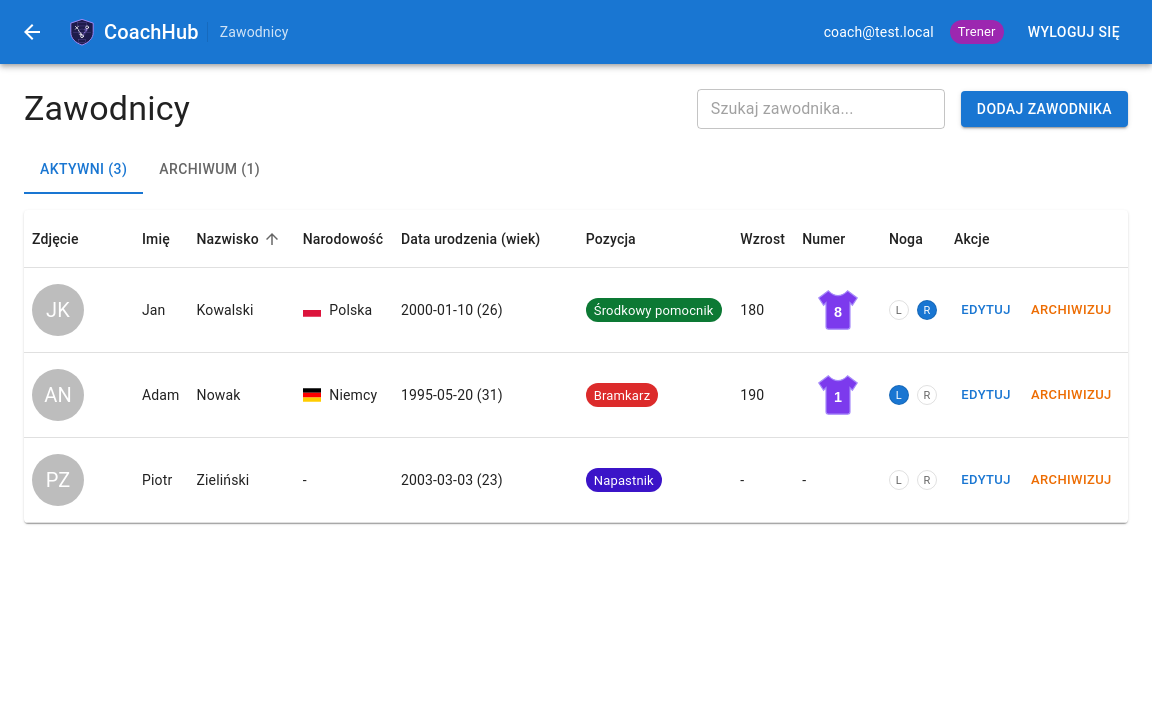
Test: players list › archive tab › lists only archived players with the date they were archived
The width and height of the screenshot is (1164, 720).
Expected: the text "Kowalski" is shown, x1=188 y1=268 x2=295 y2=353
Click the tab "Archiwum (1)".
click(210, 170)  # box x1=143 y1=146 x2=276 y2=194
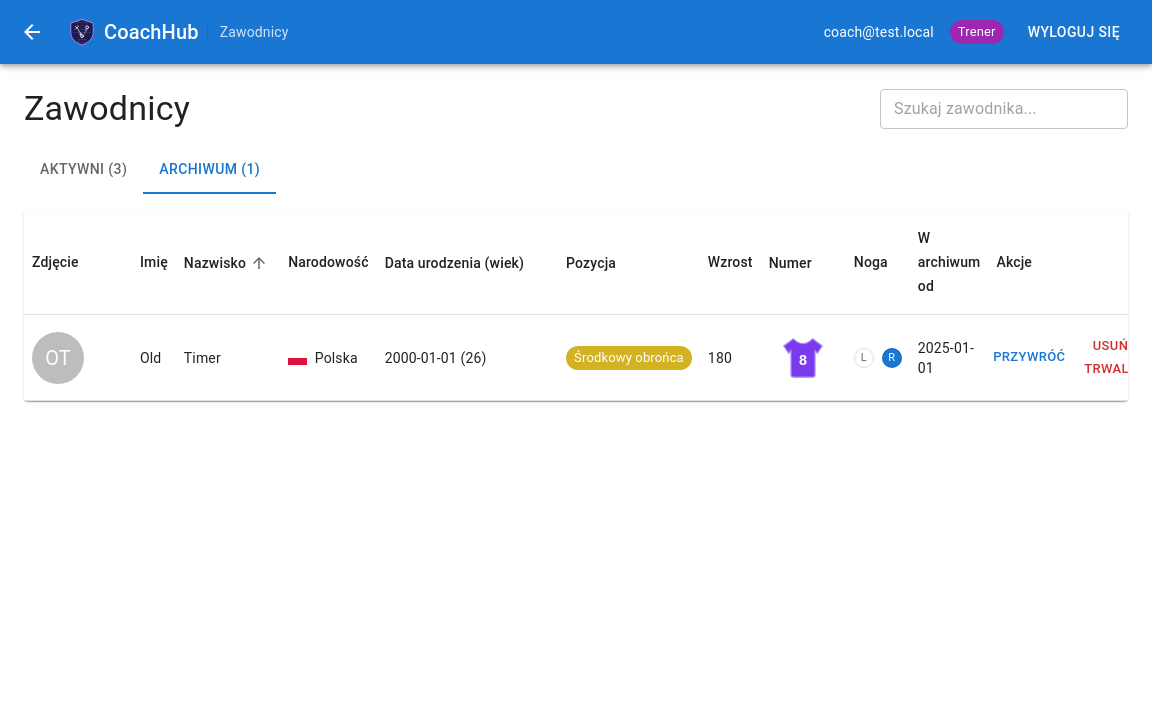
Expected: the column heading "W archiwum od" is shown, x1=910 y1=210 x2=988 y2=314
Expected: the text "2025-01-01" is shown, x1=910 y1=314 x2=988 y2=401
Expected: the button "Dodaj zawodnika" is gone
